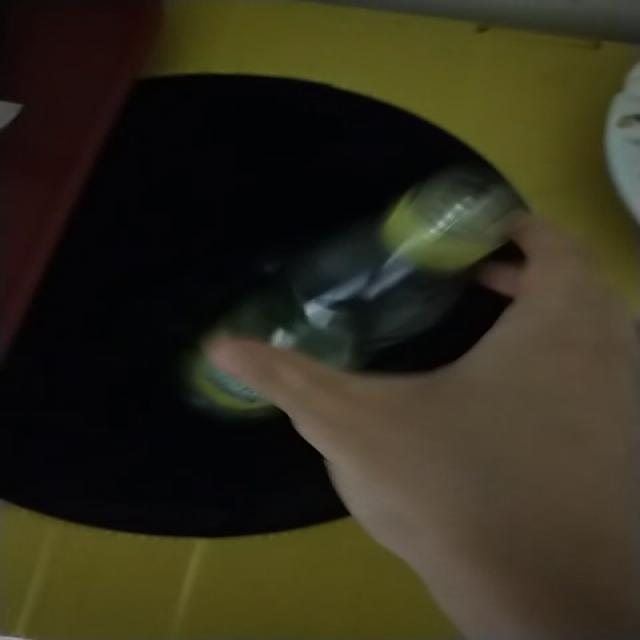plastic: (215, 165, 528, 369), (189, 360, 269, 416)
